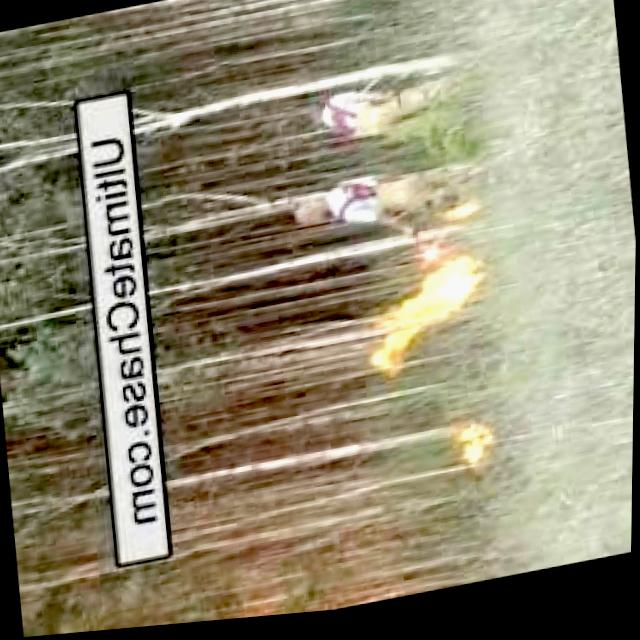helmet: (351, 245, 498, 396), (433, 414, 504, 495)
